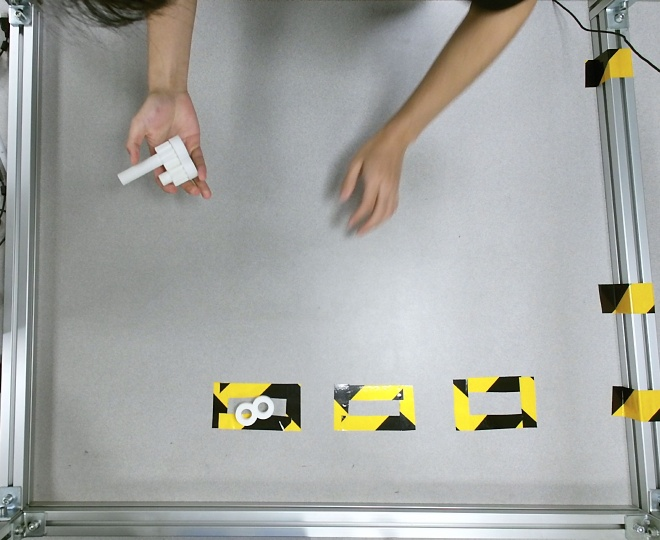stage_3: (117, 137, 198, 188)
